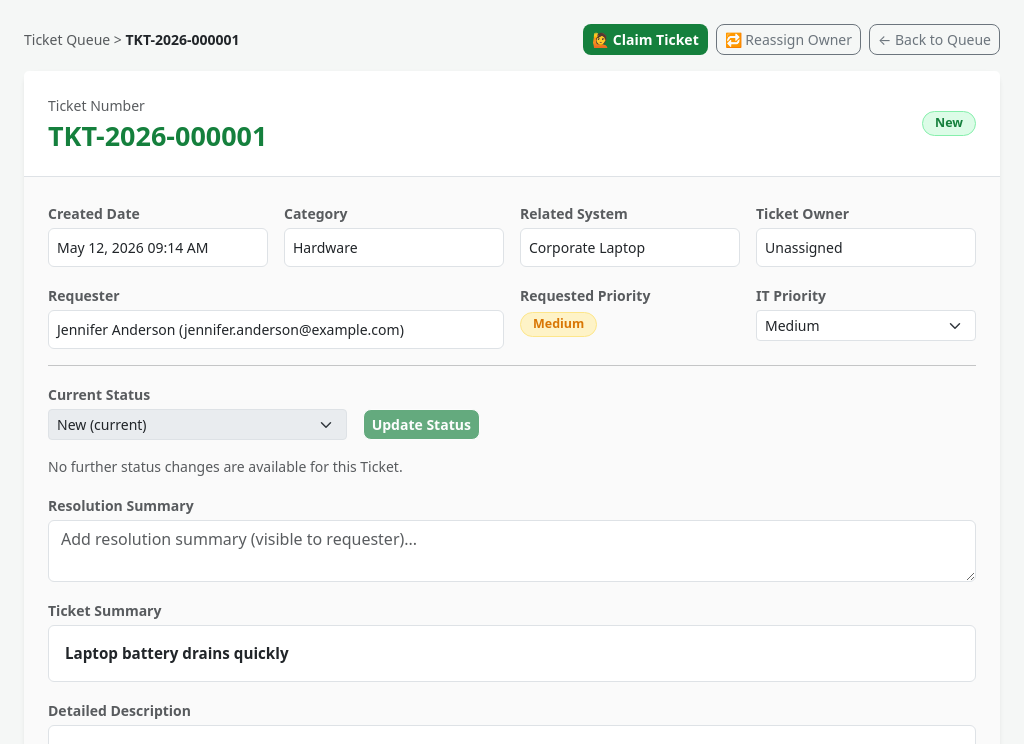
StaffTicketDetail UI Tests (Lab 3 - Issue 5) › an illegal status transition surfaces the server error message instead of updating
Expected: the text "TKT-2026-000001" is shown, [126,30,240,49]
Select "CANCELLED" in the dropdown labelled "Current Status": (197, 425) [48,409,347,440]
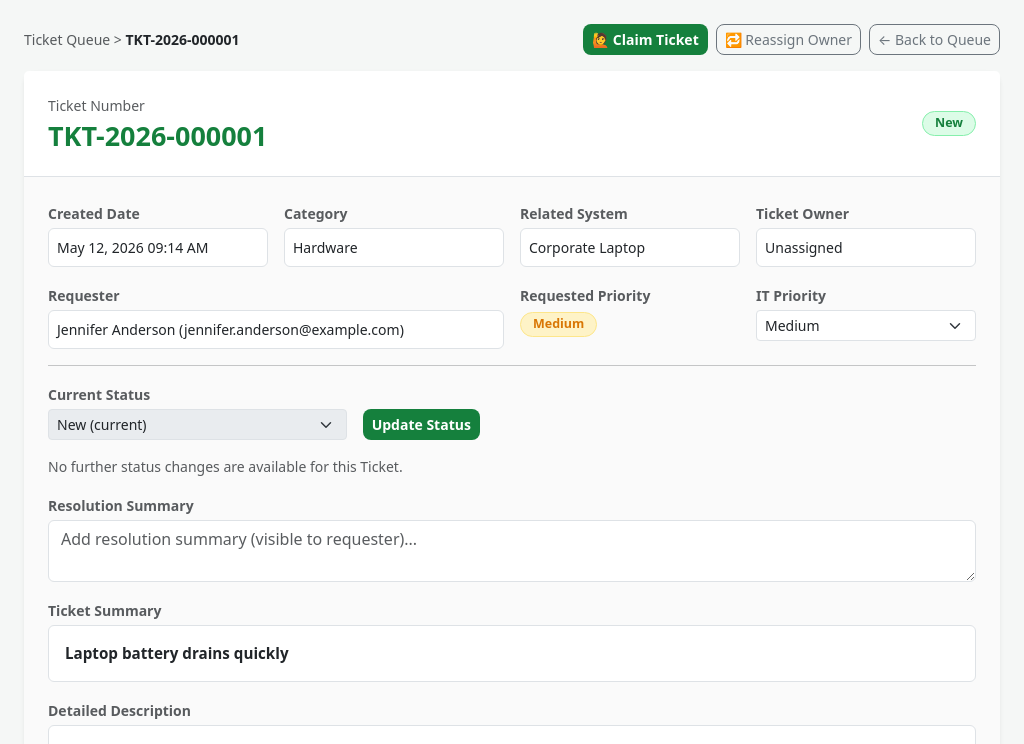
Click the button "Update Status": (421, 425) [363,409,480,440]
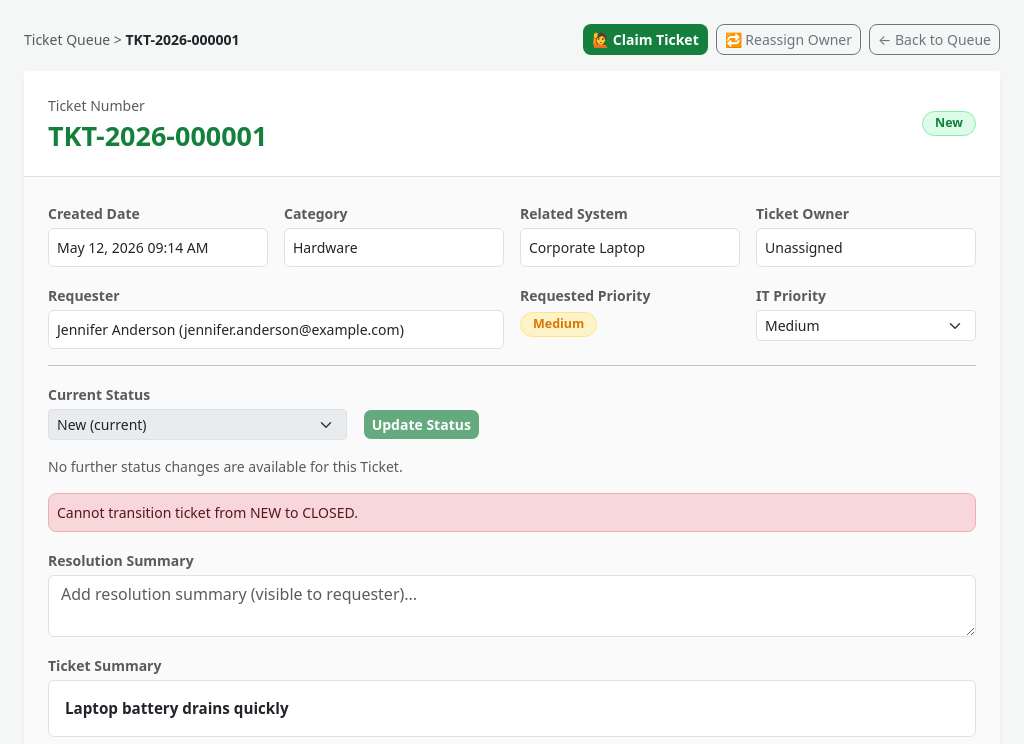
Now the text "Cannot transition ticket from NEW to CLOSED." is shown, box [48,493,976,532]
